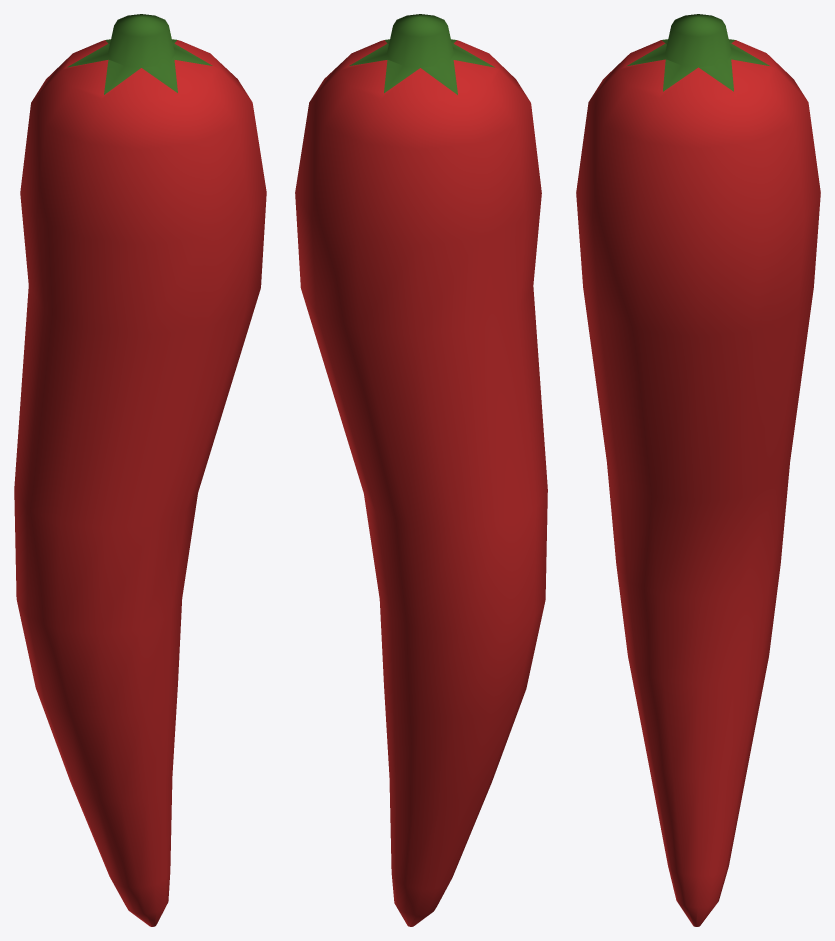
Rendered from chilli.fbx.
3 views of the same model, side by side, from view 1: azimuth 30°, elevation 25°; view 2: azimuth 150°, elevation 25°; view 3: azimuth 270°, elevation 25° (orthographic).
Parts seen in each view (by area): view 1: chilli; view 2: chilli; view 3: chilli.
Part boxes in pixels (x1,y1,x2,y2): chilli: (14,14,266,926); chilli: (295,14,547,926); chilli: (576,14,820,926).
Bounding box in the file's own units: 60.47 × 235 × 57.75.
